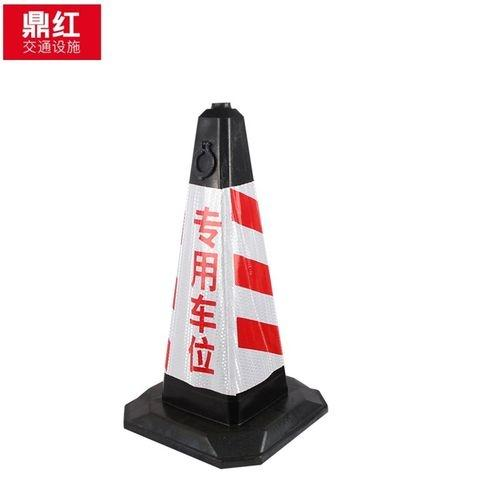cone_barrel: (126, 108, 318, 456)
